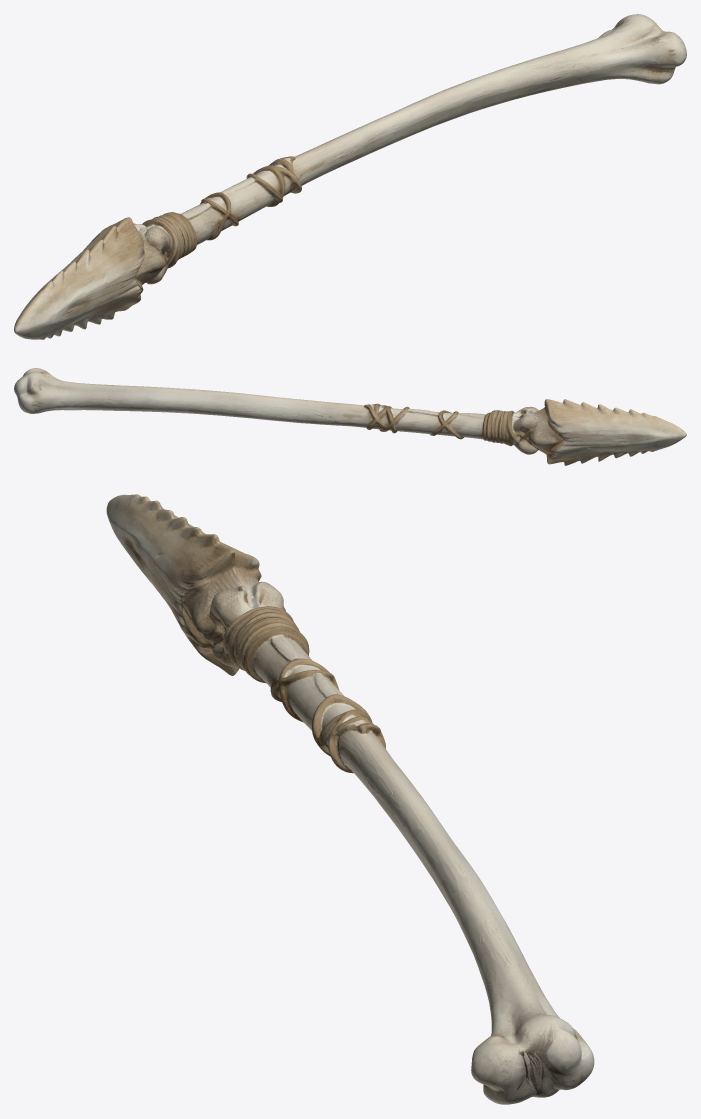
Rendered from sv_bonespear.glb.
The picture shows the model from 3 angles, top to bottom: view 1: azimuth 30°, elevation 25°; view 2: azimuth 150°, elevation 25°; view 3: azimuth 270°, elevation 25°; orthographic projection. The views are drawn at different scales.
Bounding box in the file's own units: 1.9 × 0.2108 × 0.7096.
Materials: 1 (1 with a texture image).
